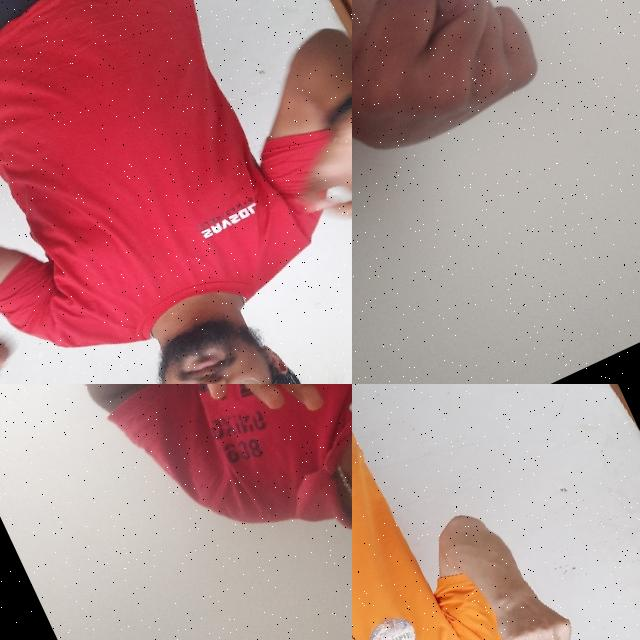Dulya: (352, 0, 561, 178)
Middle Finger: (475, 568, 608, 640)
Moutza: (163, 384, 352, 452)
Okay: (263, 70, 352, 307)
